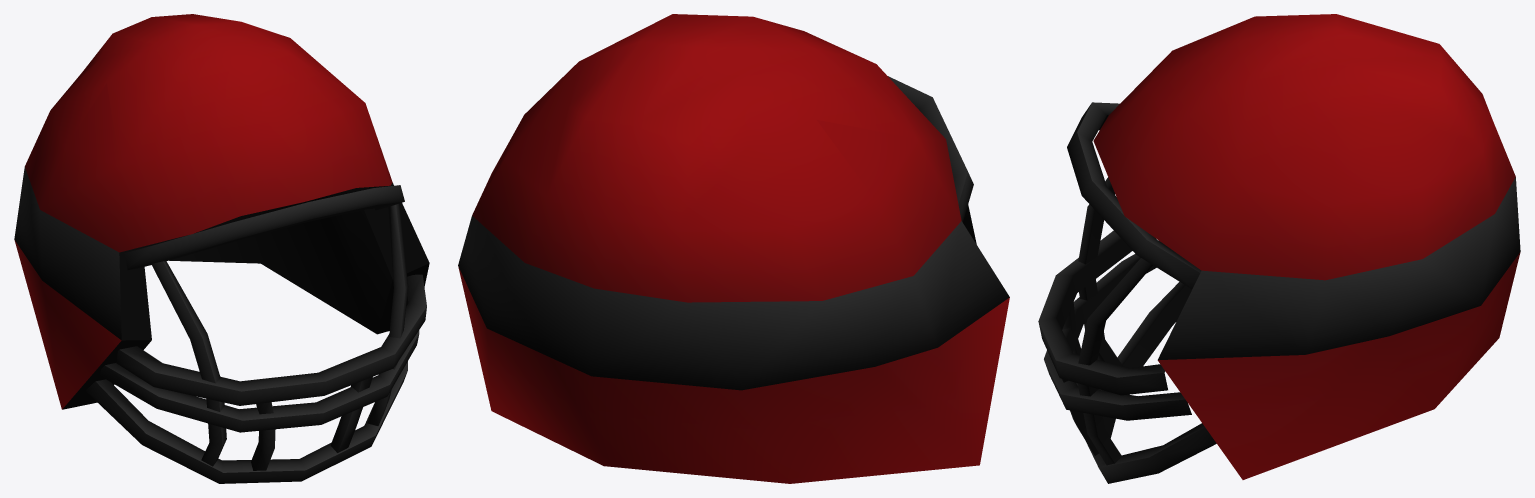
Rendered from grenade_Football.glb.
The picture shows the model from 3 angles, left to right: view 1: azimuth 30°, elevation 25°; view 2: azimuth 150°, elevation 25°; view 3: azimuth 270°, elevation 25°; orthographic projection. The views are drawn at different scales.
Parts seen in each view (by area): view 1: grenade_Football; view 2: grenade_Football; view 3: grenade_Football.
Part boxes in pixels (<box>): grenade_Football: <box>14,14,429,483</box>; grenade_Football: <box>458,14,1009,483</box>; grenade_Football: <box>1038,14,1520,483</box>.
Bounding box in the file's own units: 0.157 × 0.1591 × 0.1631.
